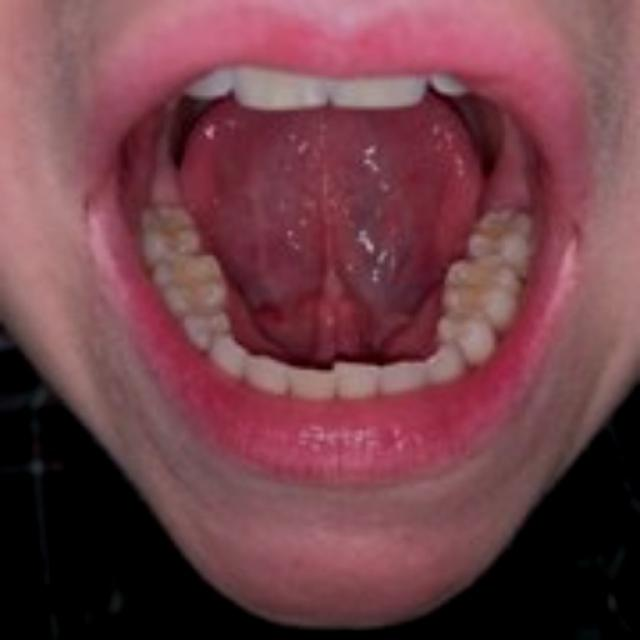processing_area: (169, 96, 478, 359)
